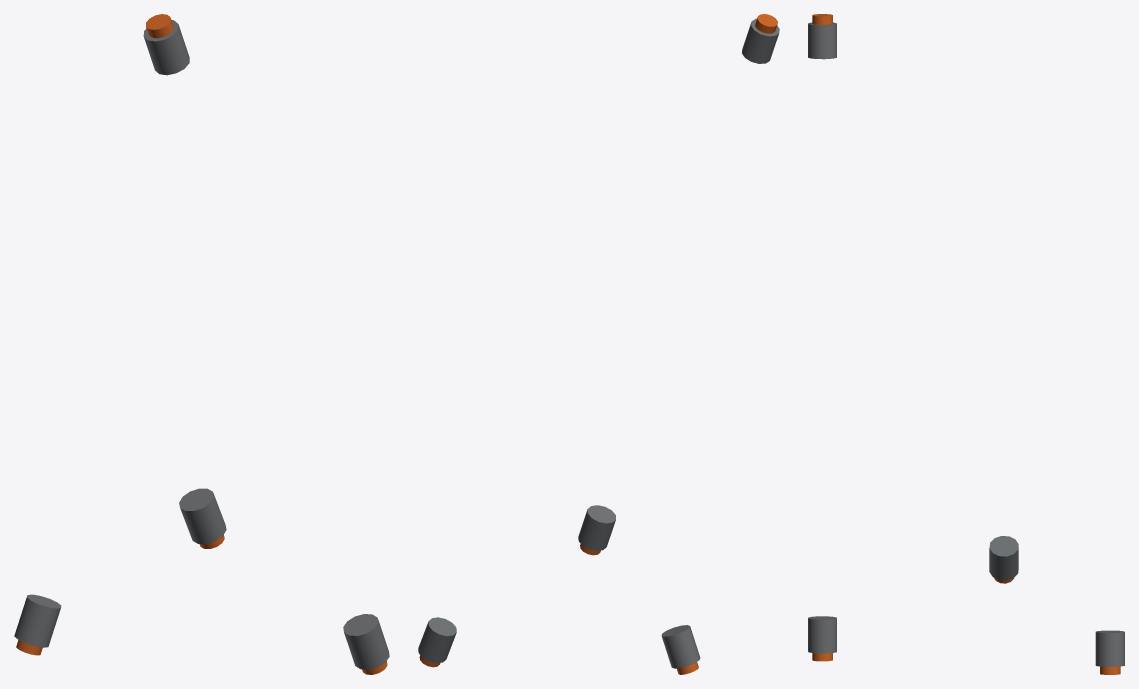
The model's file is u33_sensors.obj.
3 views of the same model, side by side, from view 1: azimuth 30°, elevation 25°; view 2: azimuth 150°, elevation 25°; view 3: azimuth 270°, elevation 25° (orthographic). The views are drawn at different scales.
Visible parts, largest first — view 1: u33_sensors; view 2: u33_sensors; view 3: u33_sensors.
Boxes of the visible parts, x1,y1,x2,y2 form: u33_sensors: (14,14,389,674); u33_sensors: (418,14,779,674); u33_sensors: (808,14,1124,674).
Bounding box in the file's own units: 1.19 × 2.98 × 1.49.
